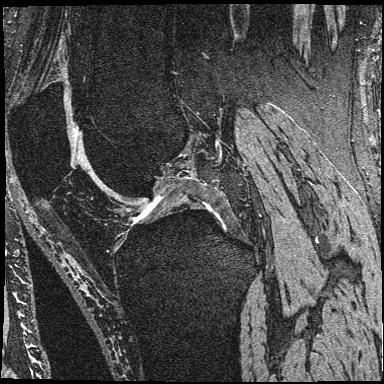SagKneeJointArea: (7, 79, 257, 299)
